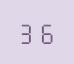six: (37, 20, 54, 44)
three: (19, 20, 36, 44)
